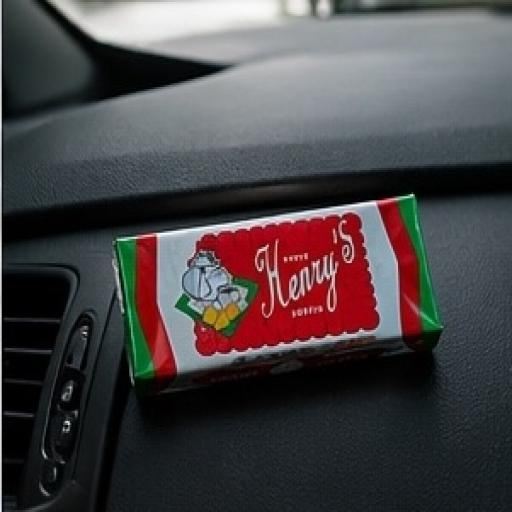henry-s: (62, 165, 468, 436)
